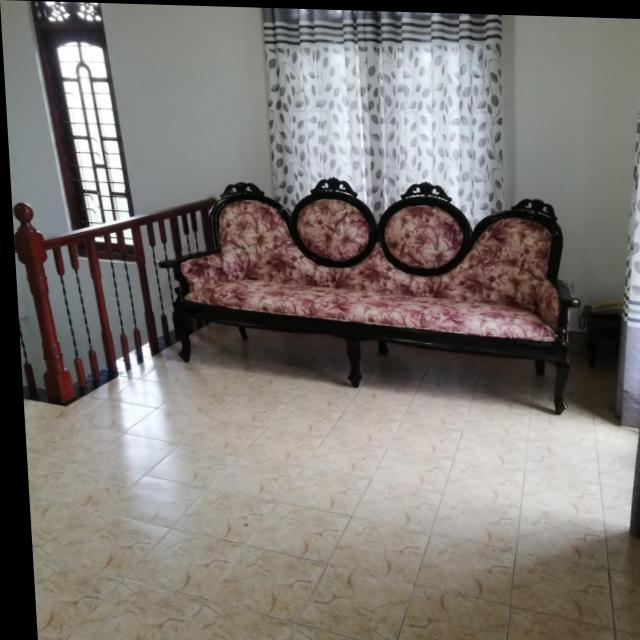Sofa: (153, 172, 587, 411)
